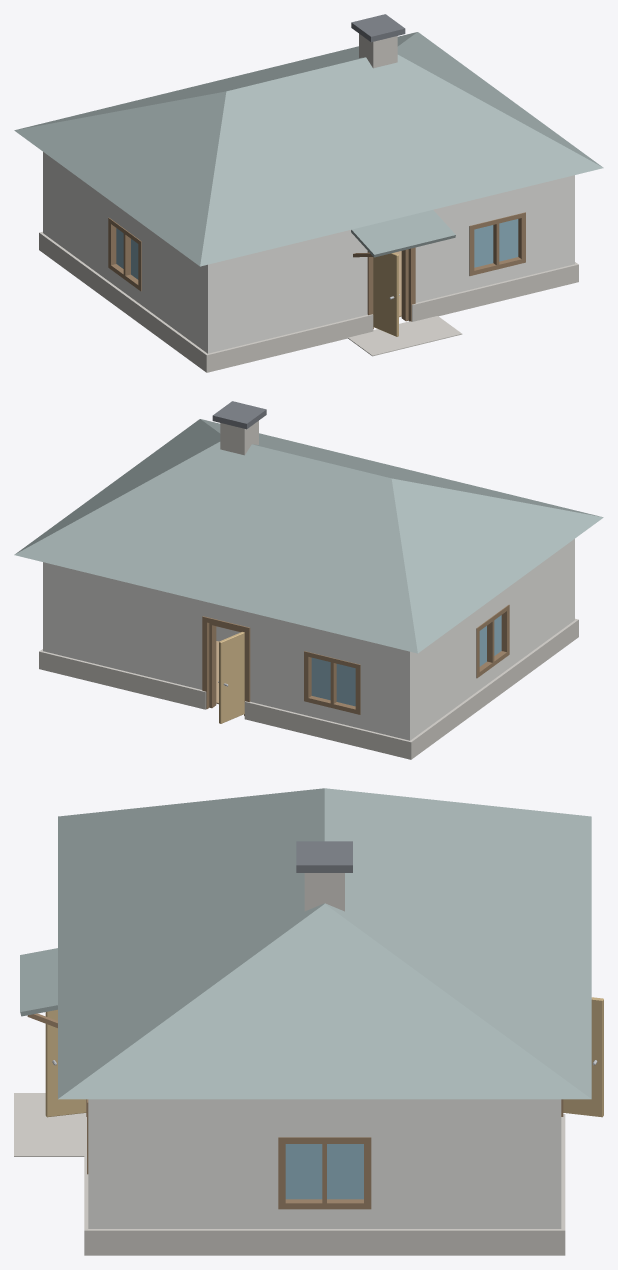
File: 民居B.fbx
The picture shows the model from 3 angles, top to bottom: view 1: azimuth 30°, elevation 25°; view 2: azimuth 150°, elevation 25°; view 3: azimuth 270°, elevation 25°; orthographic projection. The views are drawn at different scales.
Parts seen in each view (by area): view 1: 屋顶, 外墙_南_0_0.001, 外墙_西_0_0.001, 外墙_西_2_0.001, 外墙_南_4_0.001, 外墙_南_2_0.001, 墙裙_西.001, 墙裙_南_右.001, 墙裙_南_左.001, 雨棚板.001, 门口铺装.001, 门扇.002 (+10 smaller); view 2: 屋顶, 外墙_北_4_0.001, 外墙_北_0_0.001, 外墙_北_2_0.001, 外墙_西_2_0.001, 外墙_西_0_0.001, 墙裙_西.001, 墙裙_北_右.001, 墙裙_北_左.001, 门扇.003, 窗_北_玻璃, 外墙_北_1_200 (+10 smaller); view 3: 屋顶, 外墙_东_0_0.001, 外墙_东_2_0.001, 墙裙_东.001, 窗_东_玻璃.001, 门口铺装.001, 外墙_东_1_200, 外墙_北_4_0.001, 外墙_南_4_0.001, 雨棚板.001, 门扇.003, 烟囱帽.001 (+5 smaller).
Part boxes in pixels (box(x1,y1,x2,y2)): 屋顶: box(14, 32, 603, 266); 外墙_南_0_0.001: box(200, 230, 367, 353); 外墙_西_0_0.001: box(139, 222, 200, 347); 外墙_西_2_0.001: box(50, 157, 111, 282); 外墙_南_4_0.001: box(522, 175, 574, 276); 外墙_南_2_0.001: box(415, 200, 472, 302); 墙裙_西.001: box(39, 232, 209, 372); 墙裙_南_右.001: box(411, 264, 575, 321); 墙裙_南_左.001: box(209, 314, 373, 371); 雨棚板.001: box(351, 210, 455, 257); 门口铺装.001: box(348, 316, 462, 356); 门扇.002: box(373, 252, 398, 336); 屋顶: box(14, 419, 603, 653); 外墙_北_4_0.001: box(43, 562, 206, 689); 外墙_北_0_0.001: box(357, 639, 417, 740); 外墙_北_2_0.001: box(246, 611, 307, 715); 外墙_西_2_0.001: box(417, 609, 478, 734); 外墙_西_0_0.001: box(506, 544, 567, 669); 墙裙_西.001: box(408, 619, 578, 759); 墙裙_北_右.001: box(42, 651, 206, 709); 墙裙_北_左.001: box(244, 701, 408, 758); 门扇.003: box(219, 632, 244, 723); 窗_北_玻璃: box(311, 657, 355, 706); 外墙_北_1_200: box(308, 627, 356, 663); 屋顶: box(58, 788, 591, 1099); 外墙_东_0_0.001: box(108, 1099, 284, 1228); 外墙_东_2_0.001: box(365, 1099, 540, 1228); 墙裙_东.001: box(84, 1228, 565, 1255); 窗_东_玻璃.001: box(285, 1144, 363, 1199); 门口铺装.001: box(14, 1093, 86, 1156); 外墙_东_1_200: box(284, 1099, 365, 1137); 外墙_北_4_0.001: box(541, 1099, 561, 1228); 外墙_南_4_0.001: box(88, 1099, 108, 1228); 雨棚板.001: box(20, 948, 57, 1016); 门扇.003: box(563, 997, 603, 1117); 烟囱帽.001: box(296, 841, 352, 872).
Bounding box in the file's own units: 1084 × 574 × 957.
